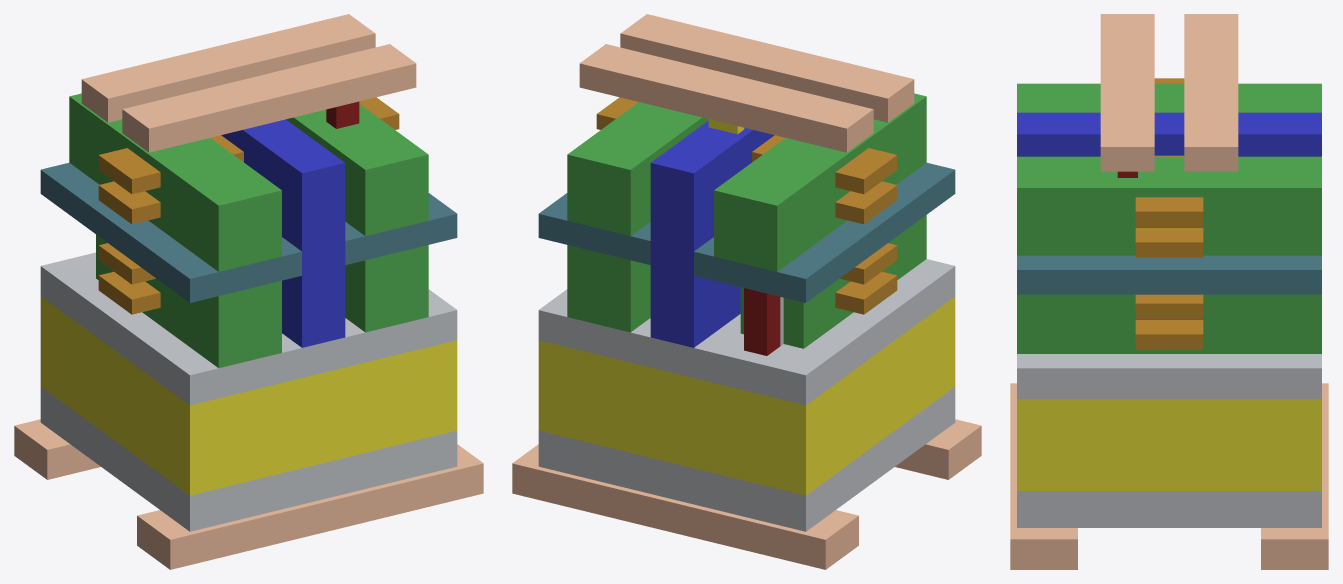
The model's file is show_cfet.obj.
3 views of the same model, side by side, from view 1: azimuth 30°, elevation 25°; view 2: azimuth 150°, elevation 25°; view 3: azimuth 270°, elevation 25° (orthographic). The views are drawn at different scales.
Parts seen in each view (by area): view 1: nwell, fox, md_gnd, bild, po, m0_out, mdi, bm_vdd, m0_in, md_outt, md_vdd, md_outb (+7 smaller); view 2: nwell, fox, md_gnd, bild, po, m0_in, mdi, bm_gnd, m0_out, md_outt, md_outb, md_vdd (+7 smaller); view 3: nwell, md_outt, md_outb, fox, mdi, bild, po, m0_in, m0_out, md_gnd, bm_vdd, bm_gnd (+4 smaller).
Part boxes in pixels (x1,y1,x2,y2): nwell: [40, 296, 457, 495]; fox: [40, 252, 457, 405]; md_gnd: [69, 93, 281, 271]; bild: [40, 387, 457, 531]; po: [221, 119, 345, 347]; m0_out: [122, 44, 416, 152]; mdi: [40, 162, 457, 302]; bm_vdd: [137, 444, 483, 569]; m0_in: [81, 14, 375, 122]; md_outt: [286, 104, 428, 235]; md_vdd: [96, 234, 281, 367]; md_outb: [345, 245, 428, 332]; nwell: [538, 296, 955, 495]; fox: [538, 259, 955, 405]; md_gnd: [714, 93, 926, 271]; bild: [538, 387, 955, 531]; po: [650, 121, 774, 347]; m0_in: [579, 44, 873, 152]; mdi: [538, 162, 955, 302]; bm_gnd: [512, 444, 858, 569]; m0_out: [620, 14, 914, 122]; md_outt: [567, 102, 708, 235]; md_outb: [567, 245, 650, 332]; md_vdd: [740, 215, 926, 348]; nwell: [1017, 399, 1321, 490]; md_outt: [1017, 156, 1321, 255]; md_outb: [1017, 294, 1321, 353]; fox: [1017, 354, 1321, 398]; mdi: [1017, 255, 1321, 294]; bild: [1017, 491, 1321, 527]; po: [1017, 112, 1321, 156]; m0_in: [1184, 14, 1238, 171]; m0_out: [1100, 14, 1154, 171]; md_gnd: [1017, 83, 1321, 112]; bm_vdd: [1010, 383, 1077, 569]; bm_gnd: [1261, 383, 1328, 569].
Bounding box in the file's own units: 109 × 134 × 94.
